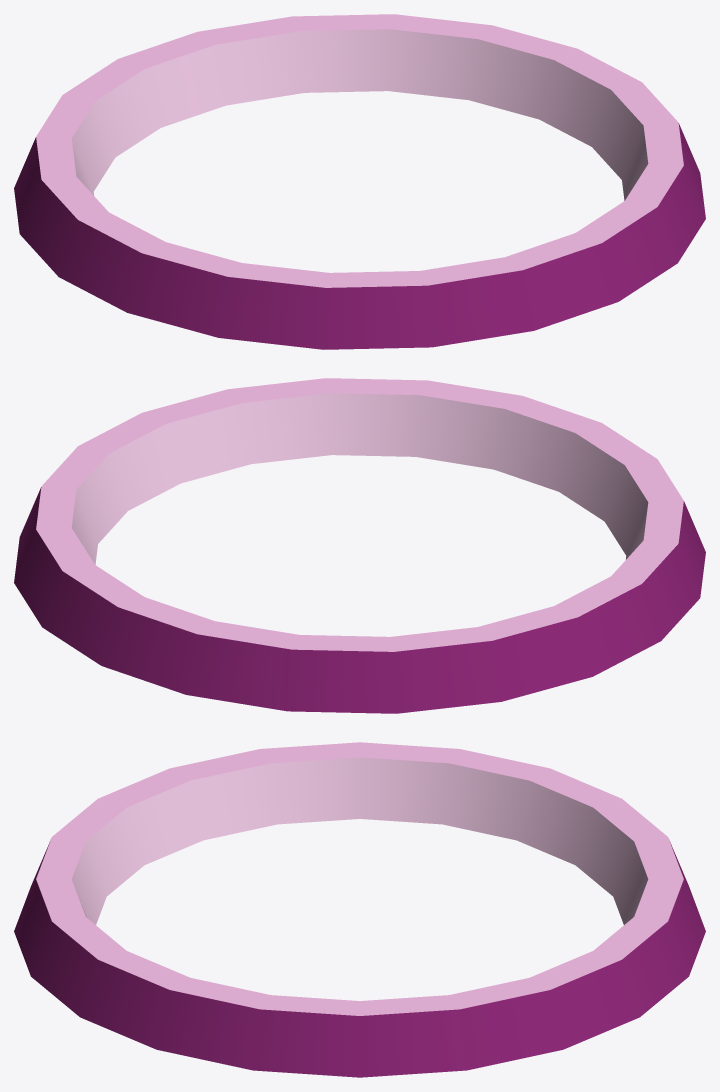
Rendered from onion.fbx.
3 views of the same model, one above another, from view 1: azimuth 30°, elevation 25°; view 2: azimuth 150°, elevation 25°; view 3: azimuth 270°, elevation 25° (orthographic).
Parts seen in each view (by area): view 1: Onion_Slice.002; view 2: Onion_Slice.002; view 3: Onion_Slice.002.
Part boxes in pixels (x1=…): Onion_Slice.002: x1=14, y1=14, x2=705, y2=349; Onion_Slice.002: x1=14, y1=378, x2=705, y2=713; Onion_Slice.002: x1=14, y1=742, x2=705, y2=1077.
Size of the model in its own units: 12 by 1 by 12.
